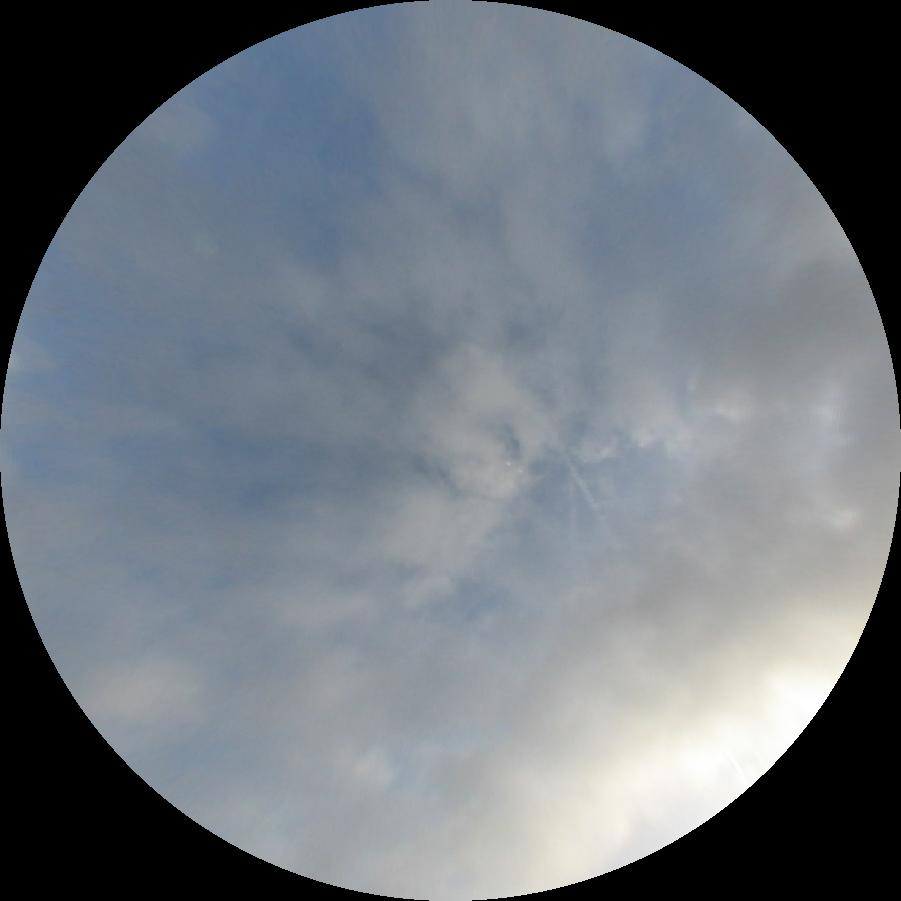contrail old: (565, 459, 622, 551), (568, 471, 574, 538)
